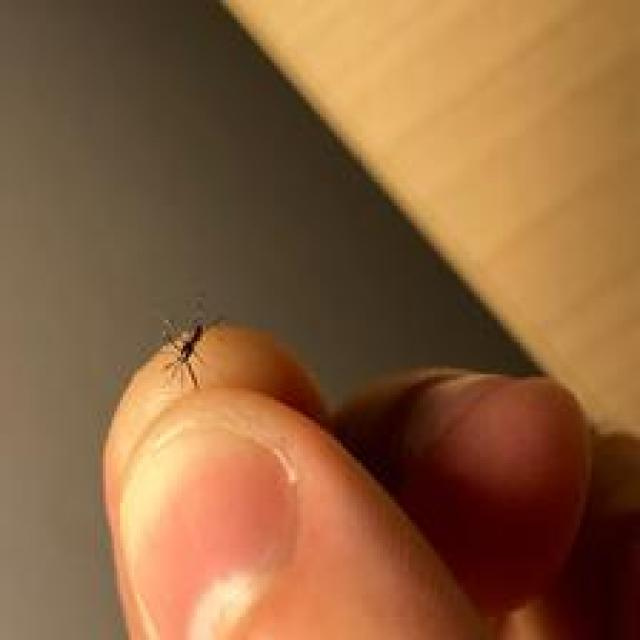Aedes albopictus: (157, 313, 223, 390)
